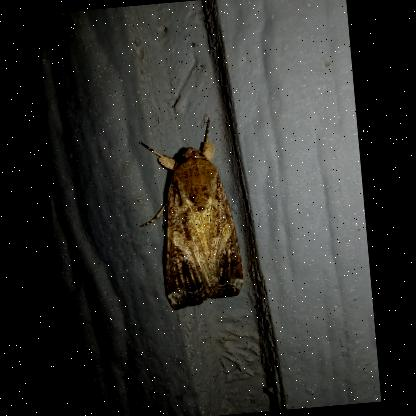Fall Armyworm Moth: (127, 112, 250, 316)
